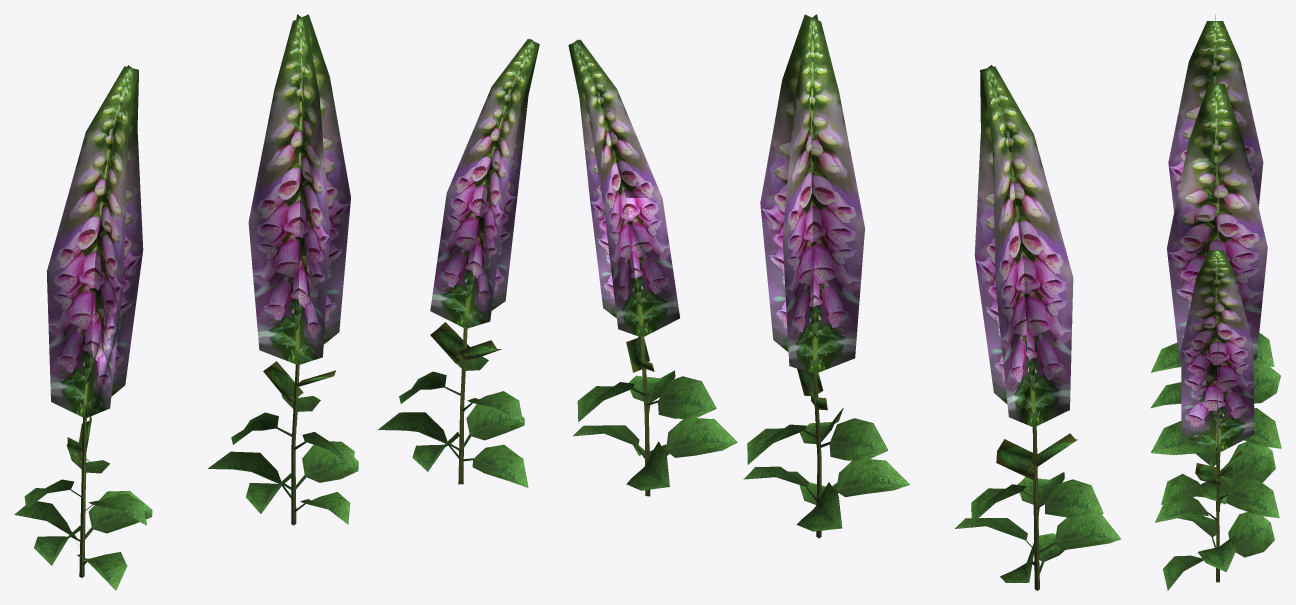
File: Digitalis Pupurea_m.FBX
3 views of the same model, side by side, from view 1: azimuth 30°, elevation 25°; view 2: azimuth 150°, elevation 25°; view 3: azimuth 270°, elevation 25° (orthographic). The views are drawn at different scales.
Parts seen in each view (by area): view 1: Digitalis Pupurea_003, Digitalis Pupurea_004, Digitalis Pupurea_02; view 2: Digitalis Pupurea_003, Digitalis Pupurea_004, Digitalis Pupurea_02; view 3: Digitalis Pupurea_003, Digitalis Pupurea_02, Digitalis Pupurea_004.
Boxes of the visible parts, x1,y1,x2,y2 form: Digitalis Pupurea_003: (207,14,358,525); Digitalis Pupurea_004: (14,65,152,590); Digitalis Pupurea_02: (378,39,539,487); Digitalis Pupurea_003: (743,14,909,538); Digitalis Pupurea_004: (955,65,1120,590); Digitalis Pupurea_02: (568,39,737,496); Digitalis Pupurea_003: (1151,84,1281,511); Digitalis Pupurea_02: (1155,249,1279,590); Digitalis Pupurea_004: (1150,15,1280,408).
Bounding box in the file's own units: 98.64 × 92.24 × 25.44.
